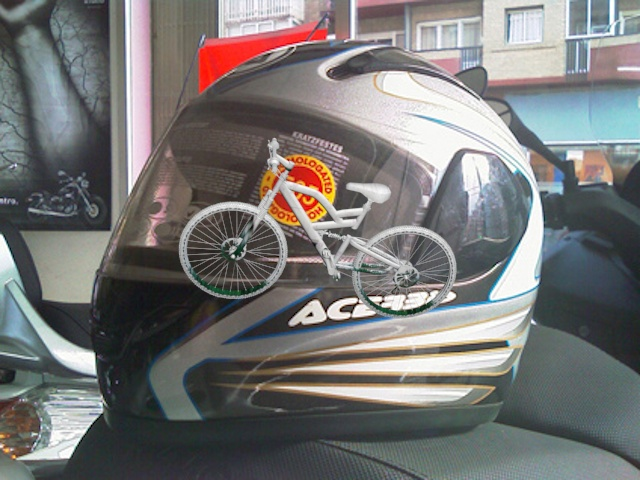bike: (177, 137, 464, 321)
